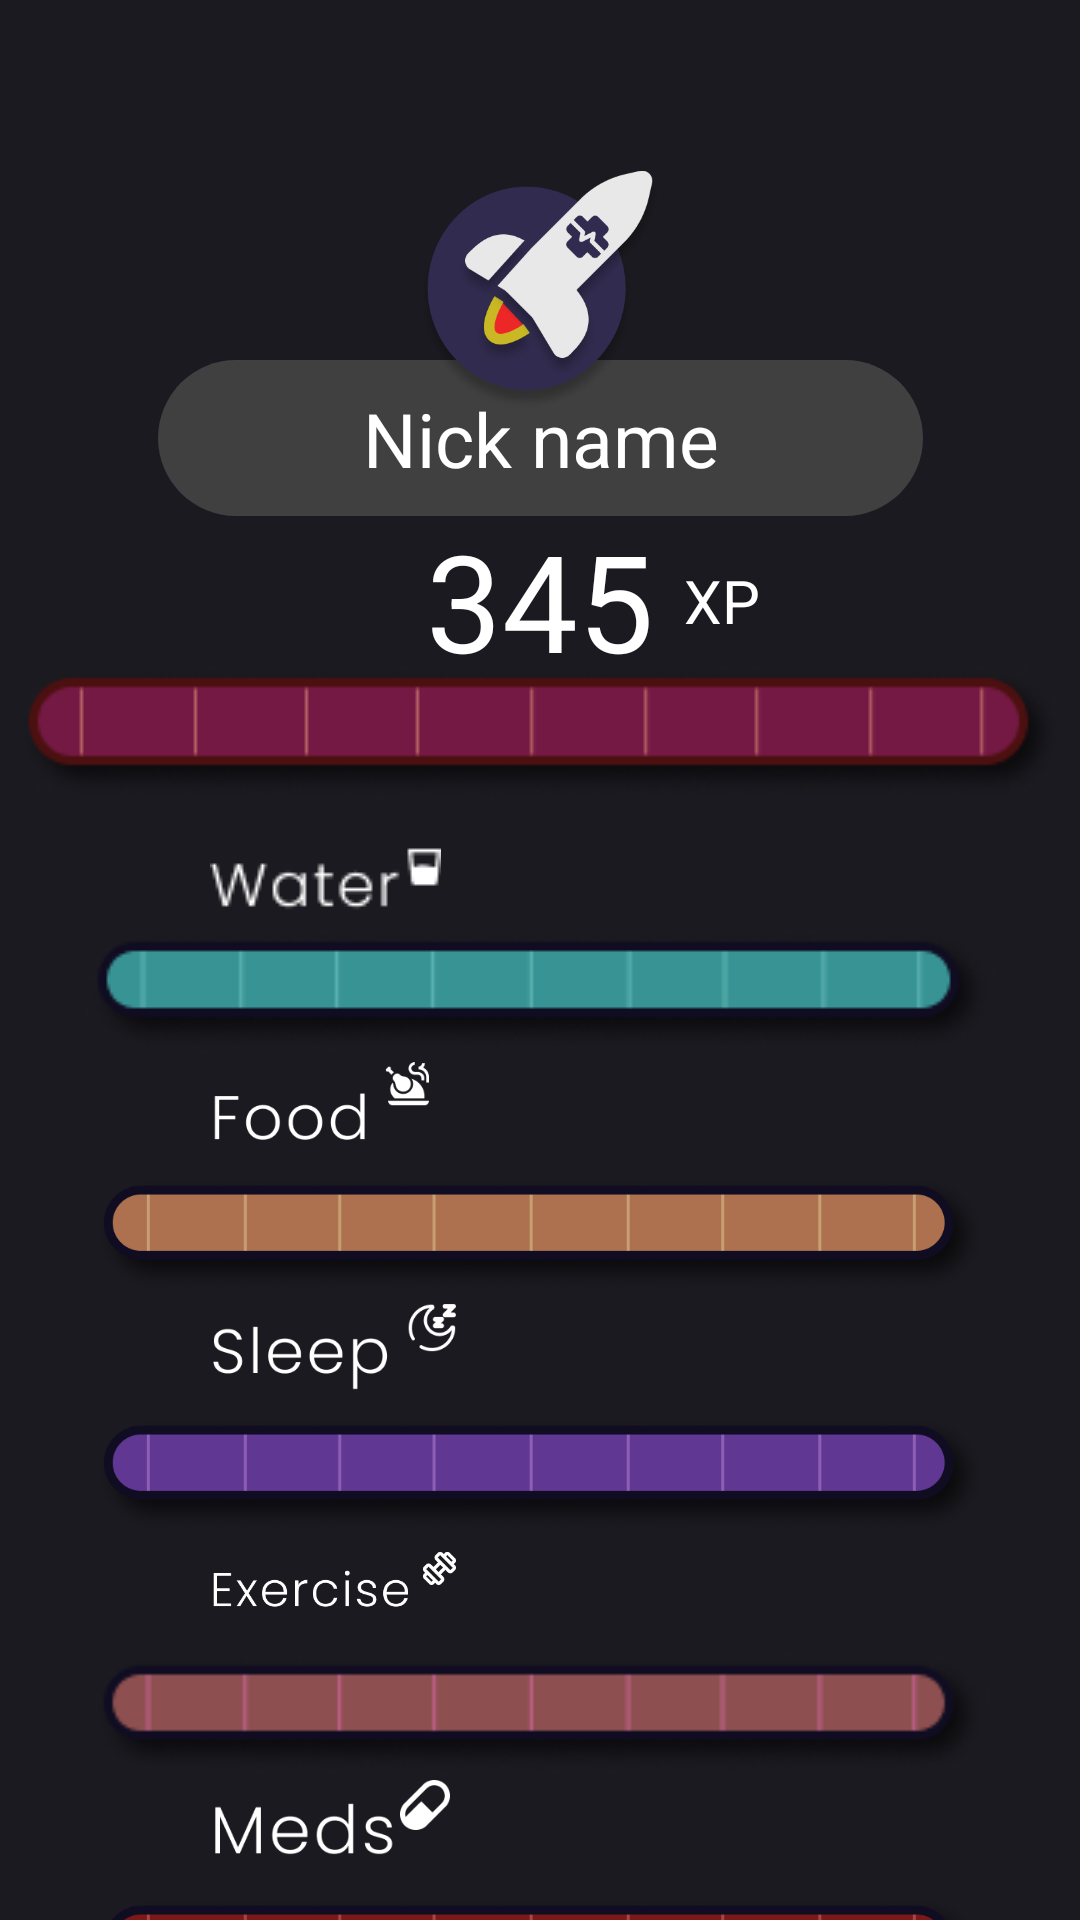

Icon bounding boxes for this 1080 × 1920 phone screenshot, format bbox(x1, y1, x2, y2):
roket: bbox(428, 171, 653, 390)
